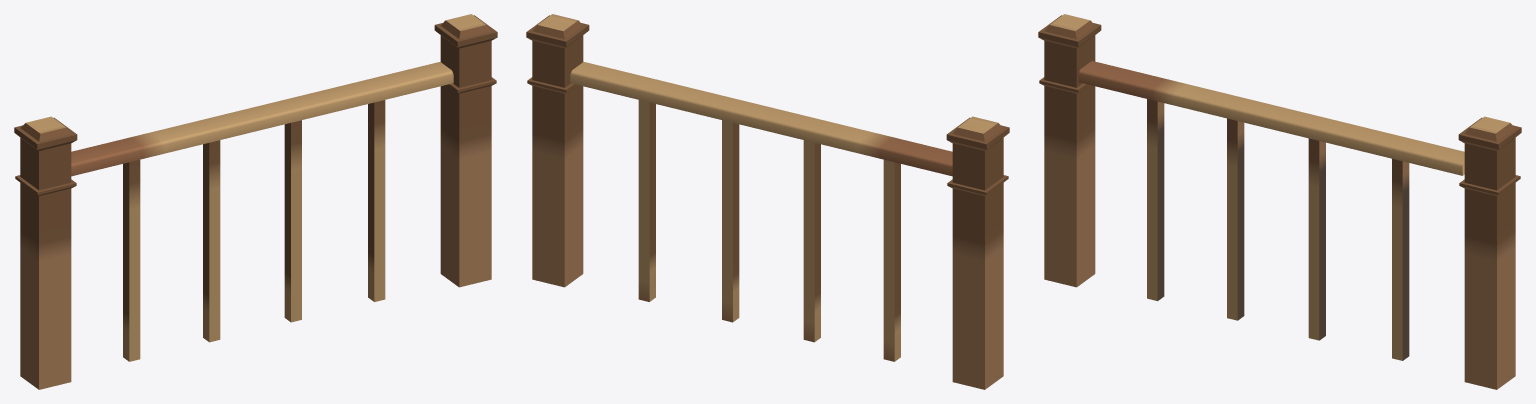
The model's file is DBK_Stairs_Wood_Rail_Short.FBX.
3 renders of one model, left to right at view 1: azimuth 30°, elevation 25°; view 2: azimuth 150°, elevation 25°; view 3: azimuth 330°, elevation 25°, orthographic.
Visible parts, largest first — view 1: DBK_Stairs_Wood_Rail_Short; view 2: DBK_Stairs_Wood_Rail_Short; view 3: DBK_Stairs_Wood_Rail_Short.
Part boxes in pixels (x1=…): DBK_Stairs_Wood_Rail_Short: x1=14, y1=14, x2=497, y2=389; DBK_Stairs_Wood_Rail_Short: x1=526, y1=14, x2=1009, y2=389; DBK_Stairs_Wood_Rail_Short: x1=1038, y1=14, x2=1521, y2=389.
Size of the model in its own units: 169 by 89.17 by 14.68.
